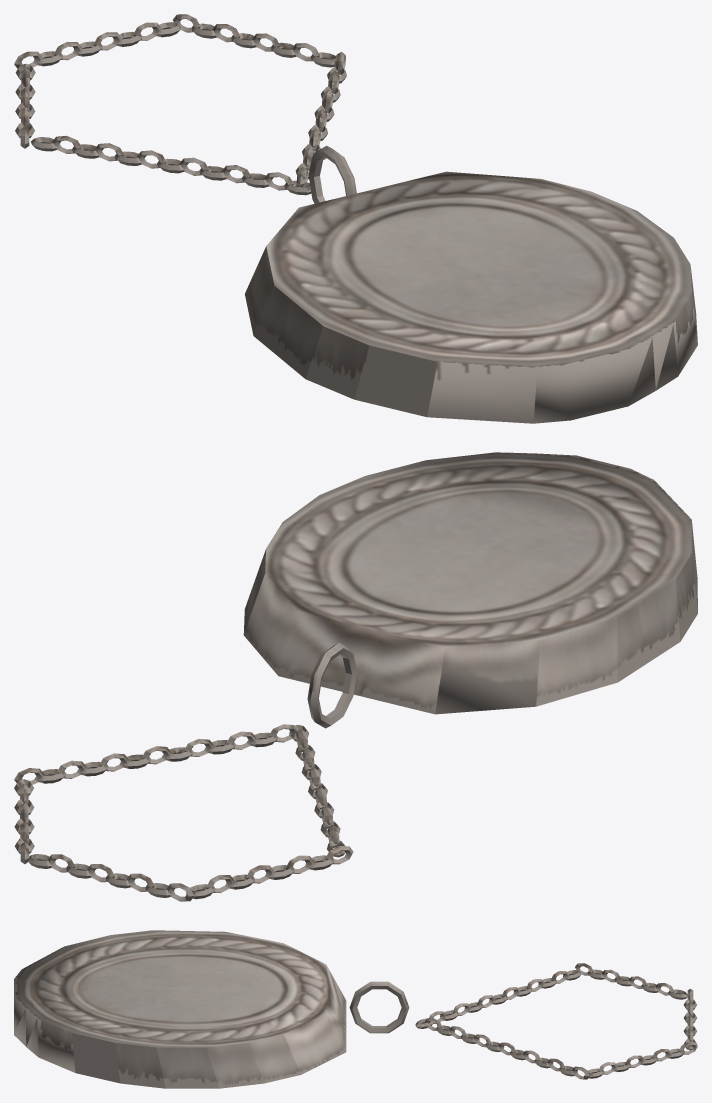
File: item_mm9_10161.glb
The picture shows the model from 3 angles, top to bottom: view 1: azimuth 30°, elevation 25°; view 2: azimuth 150°, elevation 25°; view 3: azimuth 270°, elevation 25°; orthographic projection. The views are drawn at different scales.
Parts seen in each view (by area): view 1: d10161; view 2: d10161; view 3: d10161.
Part boxes in pixels (x1=…): d10161: x1=14, y1=14, x2=697, y2=423; d10161: x1=14, y1=452, x2=697, y2=901; d10161: x1=14, y1=930, x2=697, y2=1088.
Bounding box in the file's own units: 19.26 × 3.71 × 44.6.
1 material, 1 textured.
